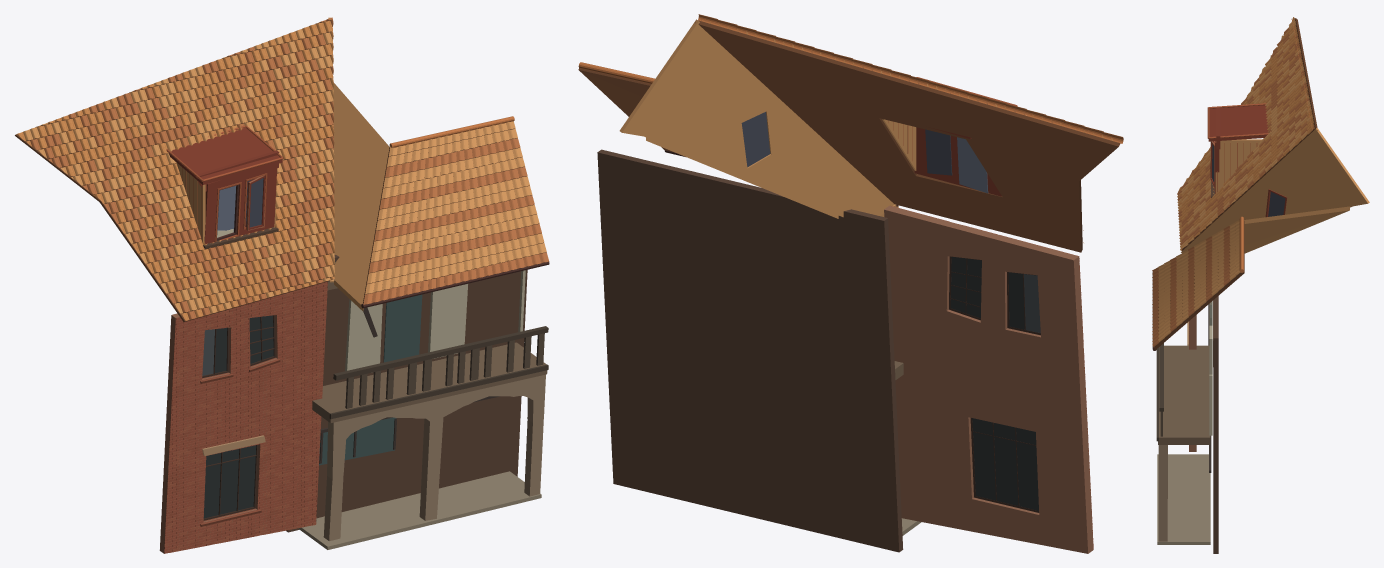
Rendered from changning-cypress-hotel-2-dormer-and-loggia-web.glb.
3 views of the same model, side by side, from view 1: azimuth 30°, elevation 25°; view 2: azimuth 150°, elevation 25°; view 3: azimuth 270°, elevation 25° (orthographic). The views are drawn at different scales.
Visible parts, largest first — view 1: 龙柏饭店2号楼的双扇老虎窗与草坪柱廊; view 2: 龙柏饭店2号楼的双扇老虎窗与草坪柱廊; view 3: 龙柏饭店2号楼的双扇老虎窗与草坪柱廊.
Part boxes in pixels (x1,y1,x2,y2): 龙柏饭店2号楼的双扇老虎窗与草坪柱廊: (15, 17, 549, 553); 龙柏饭店2号楼的双扇老虎窗与草坪柱廊: (578, 14, 1123, 553); 龙柏饭店2号楼的双扇老虎窗与草坪柱廊: (1152, 17, 1369, 553).
Size of the model in its own units: 14.48 by 13.34 by 6.98.
32 materials, 1 textured.
